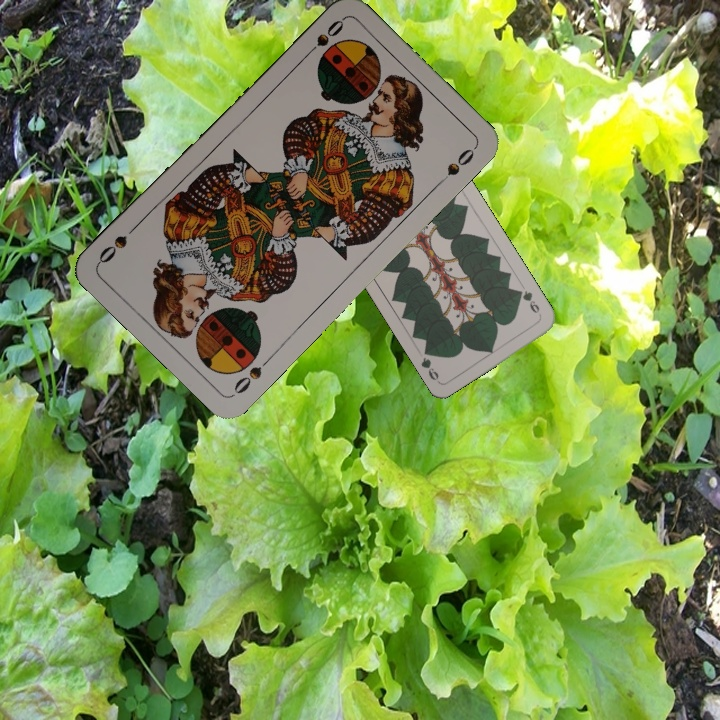G9: (513, 286, 544, 319)
SO: (299, 15, 347, 61), (229, 351, 275, 397)
